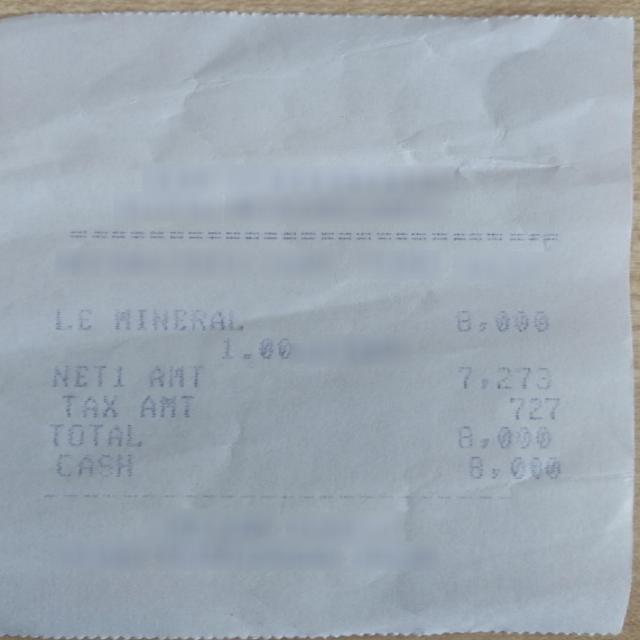text: (114, 308, 254, 335), (448, 423, 550, 452), (50, 421, 144, 448), (450, 455, 560, 478), (444, 309, 548, 333), (456, 365, 547, 387), (214, 334, 294, 359), (53, 454, 131, 476), (50, 364, 120, 386), (502, 396, 559, 422), (60, 394, 114, 416), (139, 394, 193, 416), (148, 364, 201, 386), (55, 309, 94, 332)
